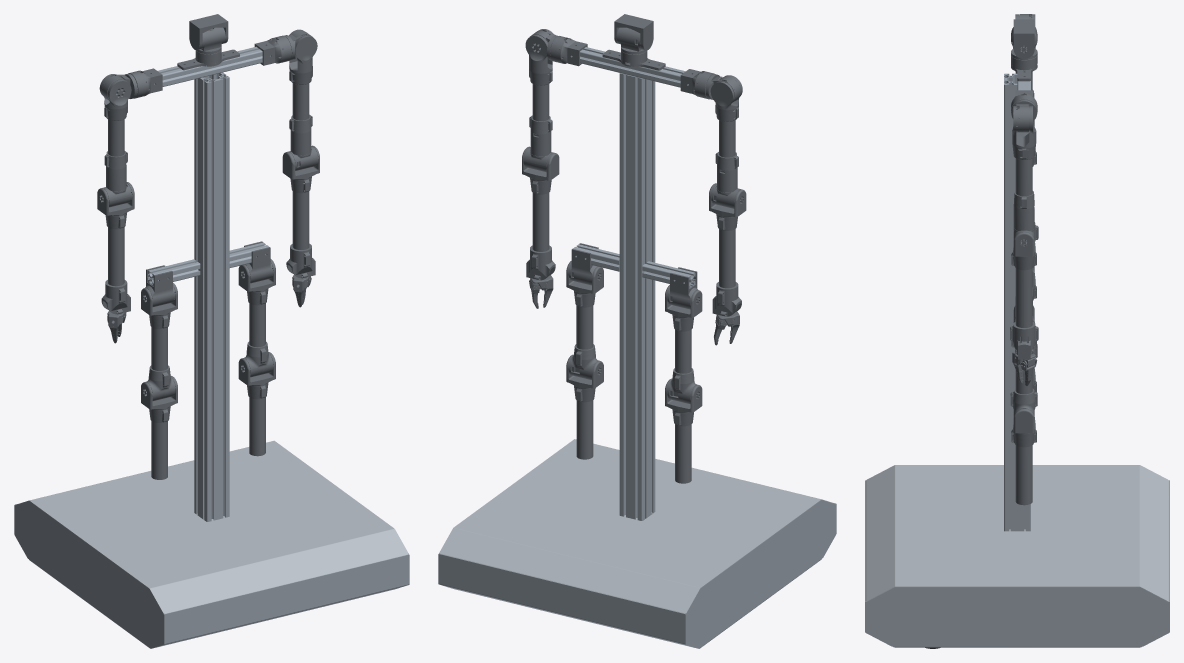
Rendered from sophicore.glb.
The picture shows the model from 3 angles, left to right: view 1: azimuth 30°, elevation 25°; view 2: azimuth 150°, elevation 25°; view 3: azimuth 270°, elevation 25°; orthographic projection.
Parts seen in each view (by area): view 1: sophicore; view 2: sophicore; view 3: sophicore.
Part boxes in pixels (x1=…): sophicore: x1=14, y1=14, x2=409, y2=648; sophicore: x1=438, y1=14, x2=836, y2=648; sophicore: x1=865, y1=14, x2=1169, y2=647.
Size of the model in its own units: 0.85 by 1.88 by 0.9.
